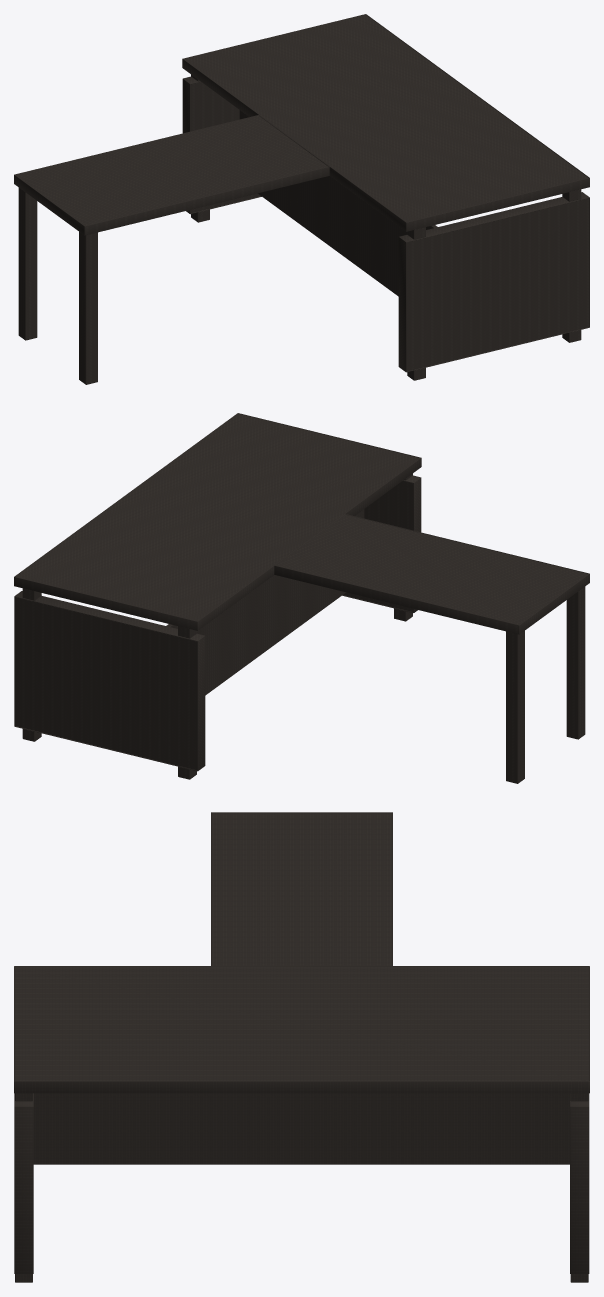
The model's file is escritorio 2.glb.
3 views of the same model, one above another, from view 1: azimuth 30°, elevation 25°; view 2: azimuth 150°, elevation 25°; view 3: azimuth 270°, elevation 25° (orthographic). The views are drawn at different scales.
Visible parts, largest first — view 1: escritorio; view 2: escritorio; view 3: escritorio.
Boxes of the visible parts, left/top/right/bottom form: escritorio: left=14, top=14, right=589, bottom=384; escritorio: left=14, top=413, right=589, bottom=783; escritorio: left=14, top=812, right=589, bottom=1282.
Size of the model in its own units: 1.85 by 0.6626 by 1.67.
Materials: 1 (1 with a texture image).
